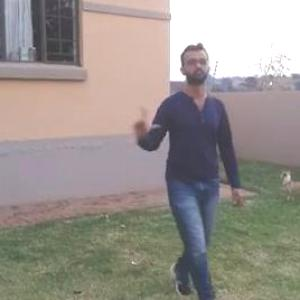land_hand: (126, 107, 163, 149)
